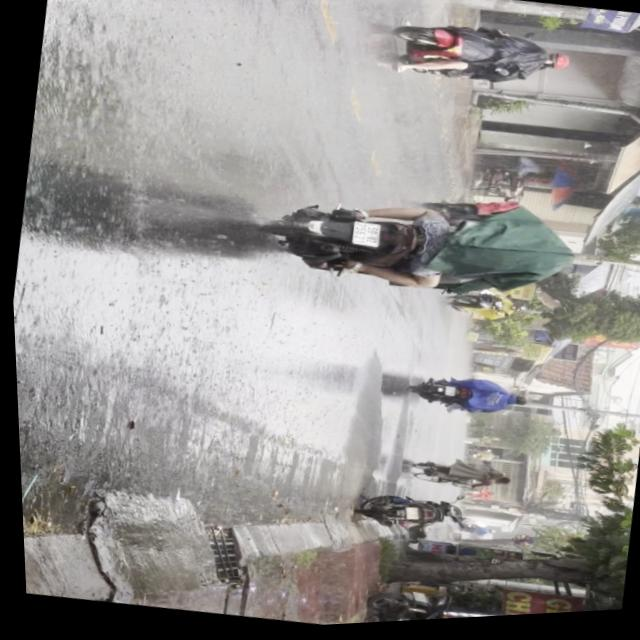helmet: (540, 54, 569, 78)
licenseplate: (243, 165, 579, 325), (380, 12, 578, 106)
nohelmet: (349, 223, 380, 251), (399, 510, 415, 524)
